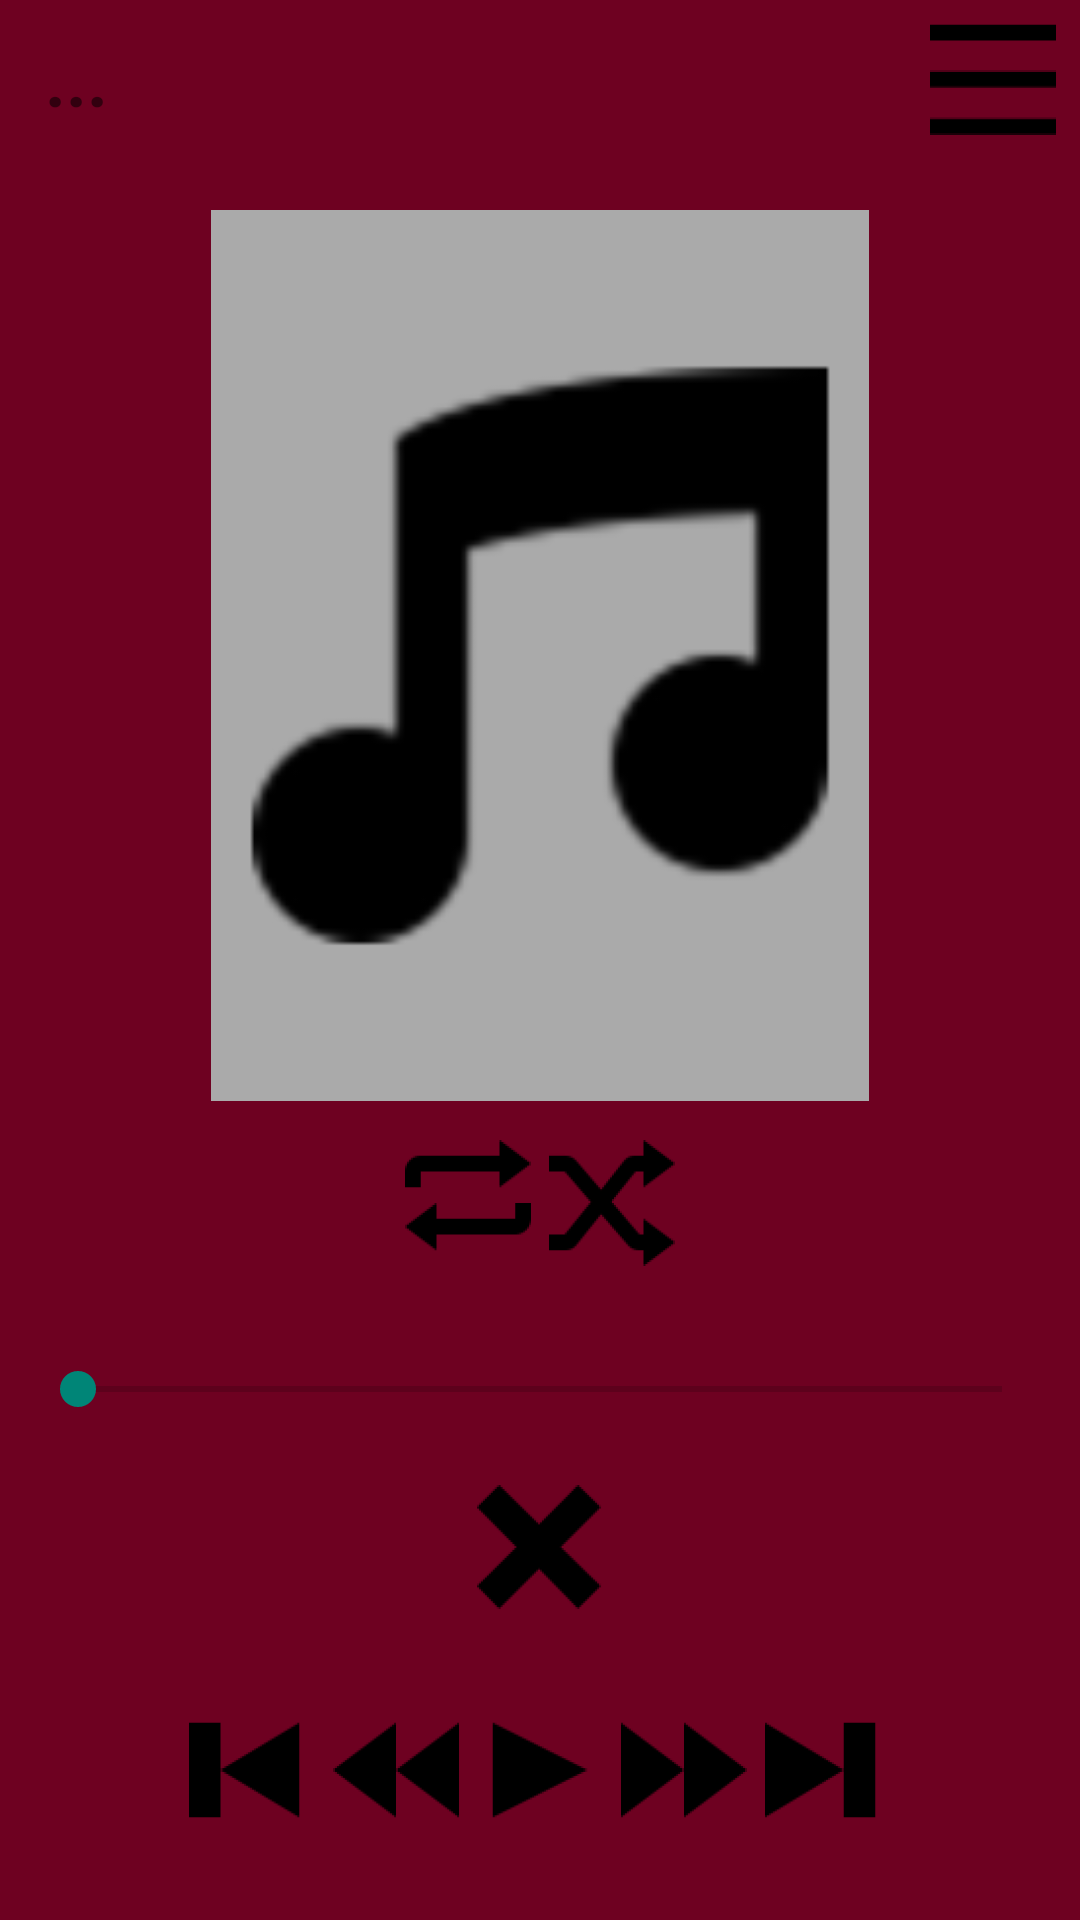

Icon bounding boxes for this 1080 x 1920 phone screenshot, format (x1, y1, x2, y2):
forward: (621, 1723, 747, 1817)
play: (492, 1723, 587, 1817)
playlisticon: (930, 24, 1056, 135)
repeat: (405, 1140, 531, 1250)
rewind: (333, 1723, 459, 1817)
shuffle: (549, 1140, 675, 1266)
skipback: (189, 1722, 300, 1818)
skipforward: (765, 1722, 876, 1818)
